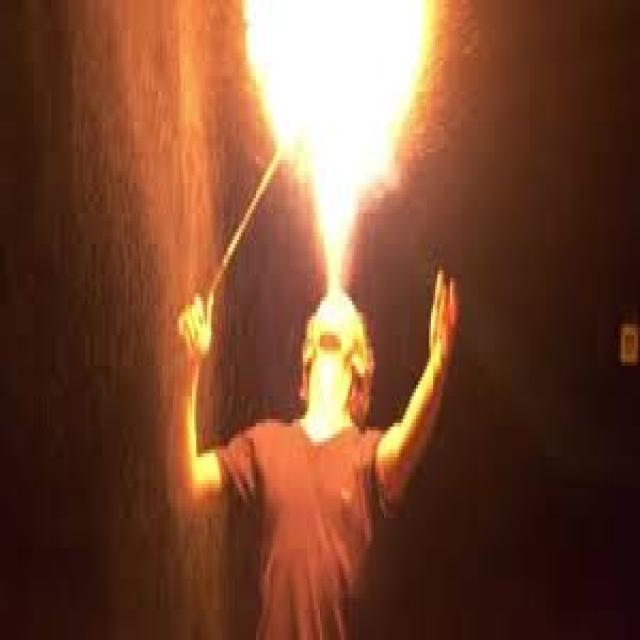fire: (243, 0, 425, 61), (251, 63, 419, 113), (309, 160, 369, 288), (269, 117, 402, 153)
